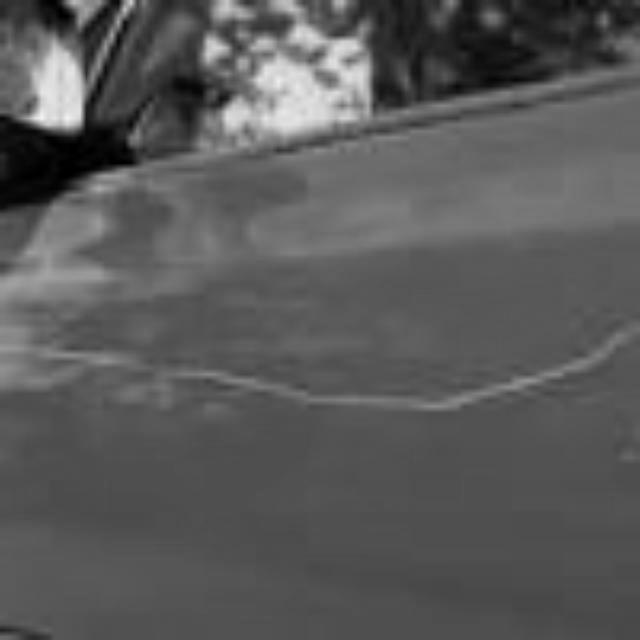doorouter-dent: (7, 45, 634, 633)
